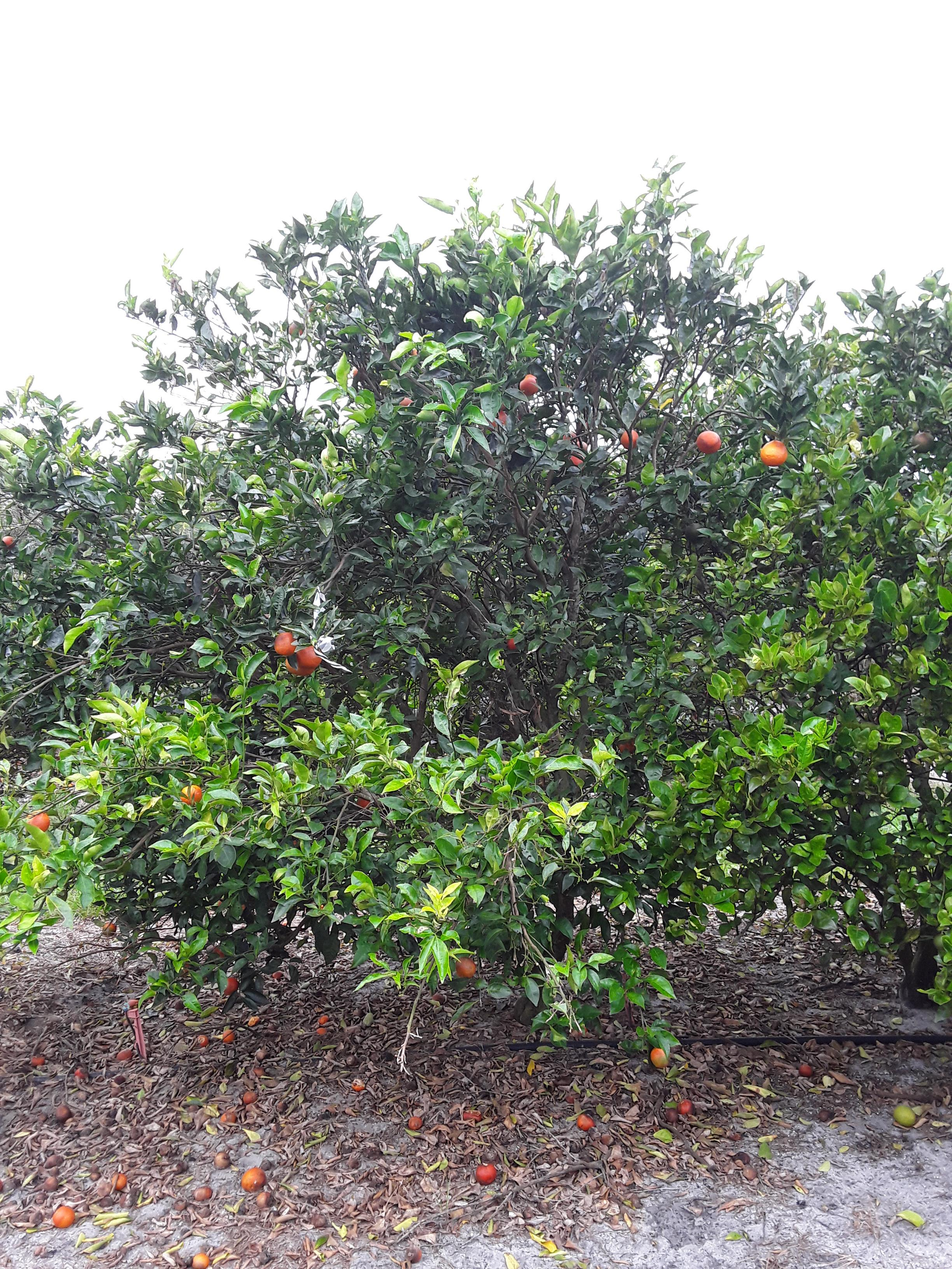fruit_on_ground: (283, 646, 320, 678), (560, 438, 595, 468), (758, 437, 791, 468), (293, 641, 327, 671), (906, 426, 938, 455), (270, 628, 300, 658), (175, 781, 207, 809), (24, 807, 54, 836), (694, 428, 724, 457), (388, 391, 420, 418), (282, 314, 312, 341), (452, 953, 479, 981), (486, 402, 514, 428), (612, 733, 640, 759), (616, 425, 642, 451), (516, 371, 542, 397), (500, 629, 527, 654), (556, 428, 583, 451), (353, 788, 378, 812), (346, 362, 370, 384), (1, 530, 19, 552)
fruit_on_tree: (240, 1165, 268, 1193), (891, 1103, 918, 1130), (473, 1161, 499, 1187), (52, 1203, 77, 1229), (648, 1045, 672, 1069), (574, 1112, 597, 1133), (404, 1242, 425, 1264), (219, 974, 240, 996), (460, 1107, 486, 1124), (675, 1096, 696, 1117), (52, 1103, 73, 1124), (205, 942, 227, 961), (212, 1150, 231, 1170), (109, 1171, 128, 1191), (218, 1106, 238, 1125), (192, 1184, 213, 1202), (190, 1251, 212, 1268), (406, 1113, 425, 1132), (99, 919, 119, 937), (741, 1165, 760, 1183), (254, 1190, 272, 1209), (240, 1088, 259, 1106), (95, 1180, 115, 1197), (44, 1152, 64, 1169), (663, 1105, 681, 1123), (41, 1173, 59, 1191), (219, 1027, 237, 1045), (116, 1045, 135, 1061), (816, 1106, 834, 1122), (193, 1031, 210, 1047), (797, 1061, 814, 1077), (0, 1175, 14, 1194), (254, 1045, 270, 1060), (29, 1053, 46, 1067), (88, 1163, 103, 1178), (73, 1066, 89, 1080), (251, 1064, 266, 1078), (350, 1079, 366, 1092), (126, 995, 142, 1008), (270, 969, 286, 982), (315, 1023, 329, 1037), (172, 998, 186, 1012), (317, 1010, 331, 1024), (247, 1014, 261, 1027)
